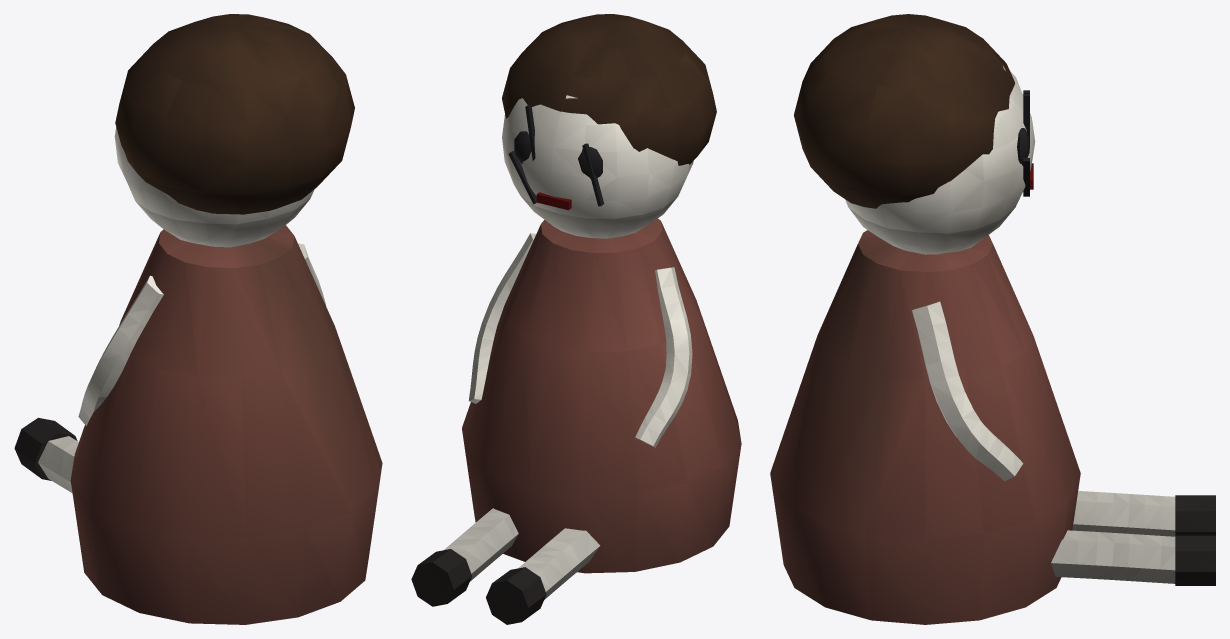
File: Doll.glb
The picture shows the model from 3 angles, left to right: view 1: azimuth 30°, elevation 25°; view 2: azimuth 150°, elevation 25°; view 3: azimuth 270°, elevation 25°; orthographic projection. The views are drawn at different scales.
Parts seen in each view (by area): view 1: Doll_quilt, Doll_wood_dark, Doll_ceramic, Doll_metal_dark; view 2: Doll_quilt, Doll_ceramic, Doll_wood_dark, Doll_metal_dark; view 3: Doll_quilt, Doll_wood_dark, Doll_ceramic, Doll_metal_dark.
Part boxes in pixels (<box>): Doll_quilt: <box>70,225,382,624</box>; Doll_wood_dark: <box>115,14,354,214</box>; Doll_ceramic: <box>38,127,325,493</box>; Doll_metal_dark: <box>14,417,77,480</box>; Doll_quilt: <box>462,218,741,573</box>; Doll_ceramic: <box>444,95,693,599</box>; Doll_wood_dark: <box>502,14,716,165</box>; Doll_metal_dark: <box>411,104,604,624</box>; Doll_quilt: <box>770,230,1080,624</box>; Doll_wood_dark: <box>794,14,1014,208</box>; Doll_ceramic: <box>845,66,1175,583</box>; Doll_metal_dark: <box>1017,90,1215,585</box>.
Bounding box in the file's own units: 0.92 × 1.76 × 1.32.
